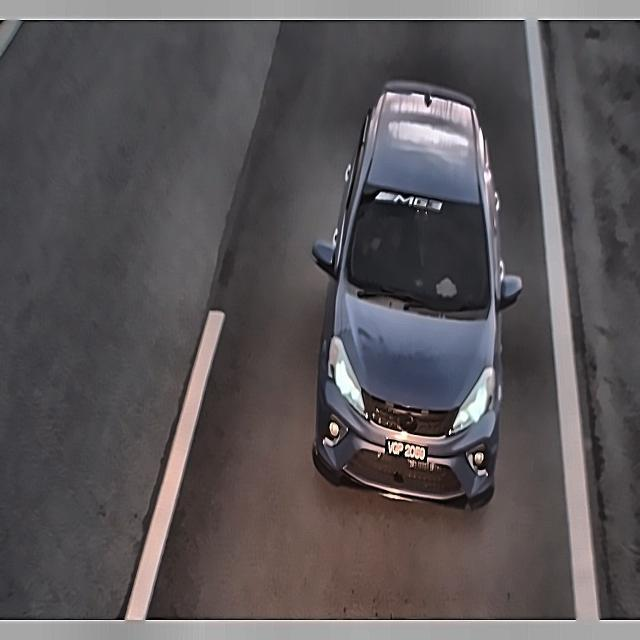car: (383, 433, 431, 467)
